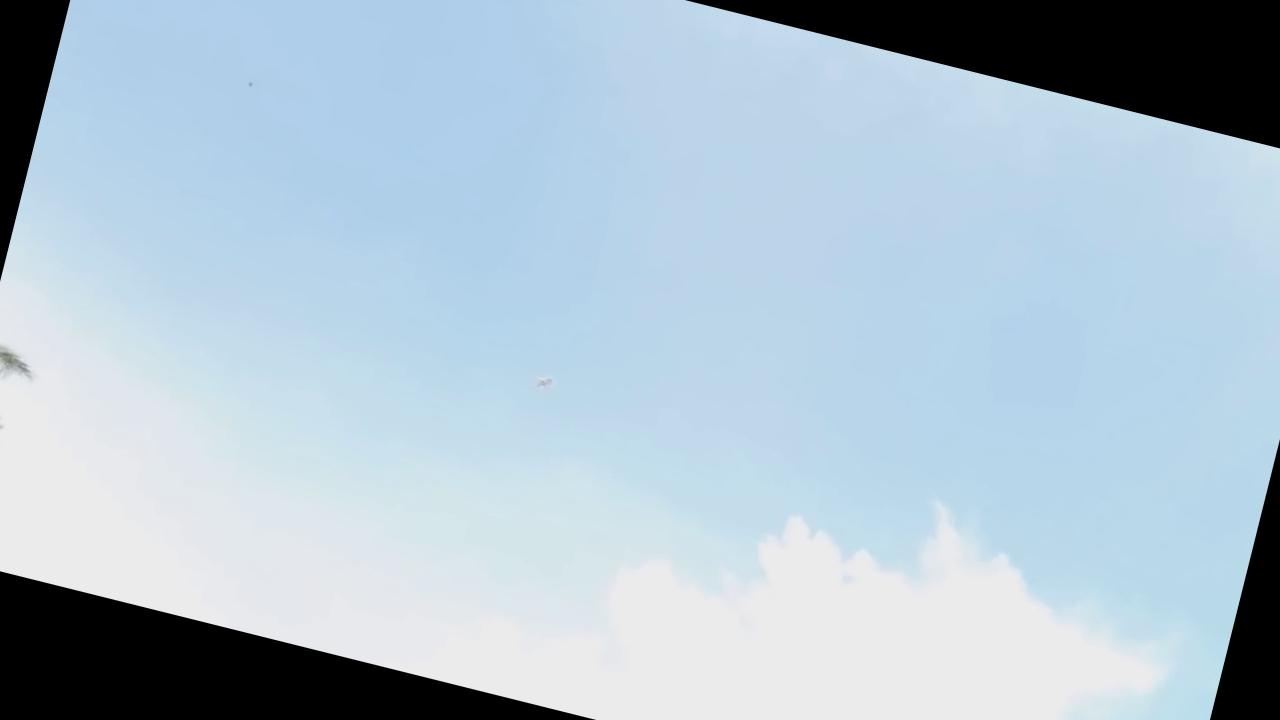drone: (530, 366, 568, 396)
